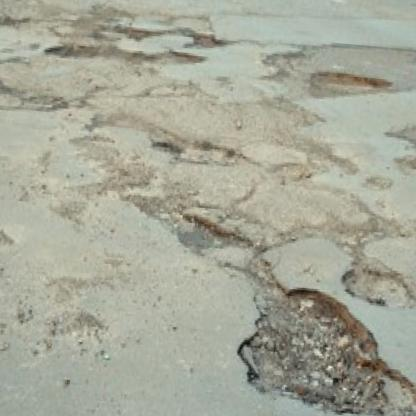pothole: (233, 281, 416, 416), (174, 215, 252, 276), (273, 139, 361, 192), (148, 129, 245, 172), (338, 263, 416, 314), (308, 70, 394, 93), (138, 46, 206, 70), (44, 37, 104, 61), (194, 30, 228, 51), (364, 172, 393, 193), (393, 151, 416, 177), (0, 11, 26, 29)
